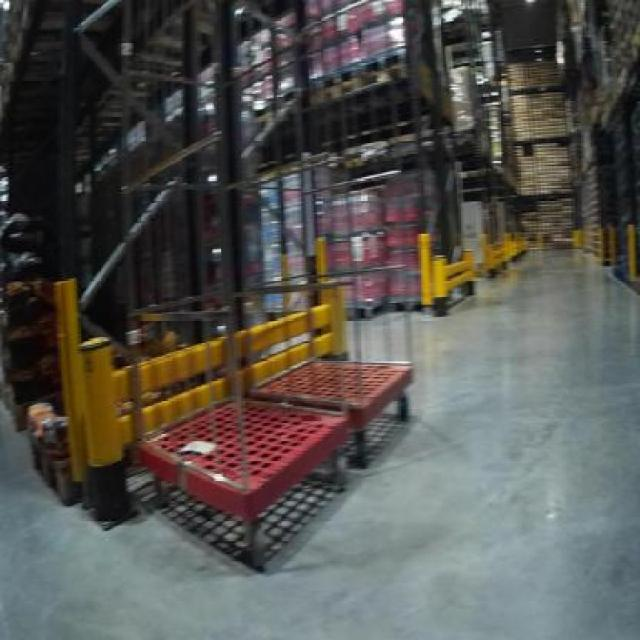pallet: (305, 58, 411, 109)
